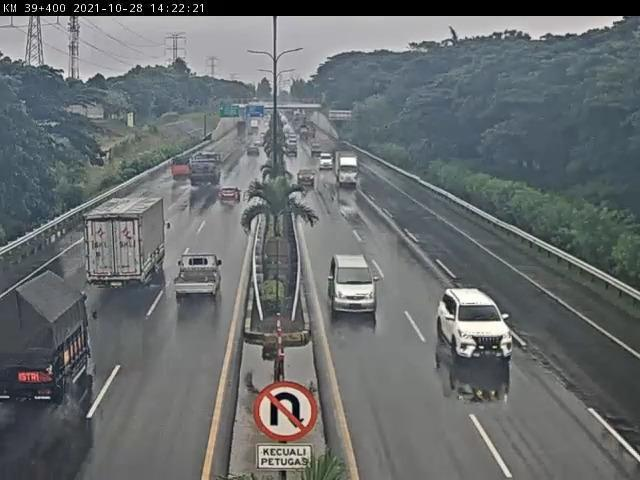car: (433, 284, 519, 367), (327, 250, 380, 318), (172, 248, 226, 304), (216, 186, 244, 208), (297, 168, 318, 187)
truck: (1, 268, 89, 406), (83, 196, 171, 290), (188, 152, 224, 190), (332, 150, 362, 188), (173, 157, 194, 178)
